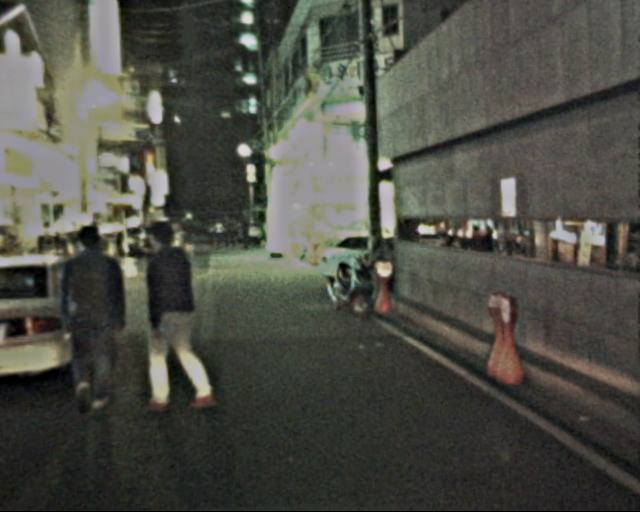person: (51, 220, 140, 415), (131, 220, 215, 412), (208, 216, 253, 251), (177, 207, 201, 260)
